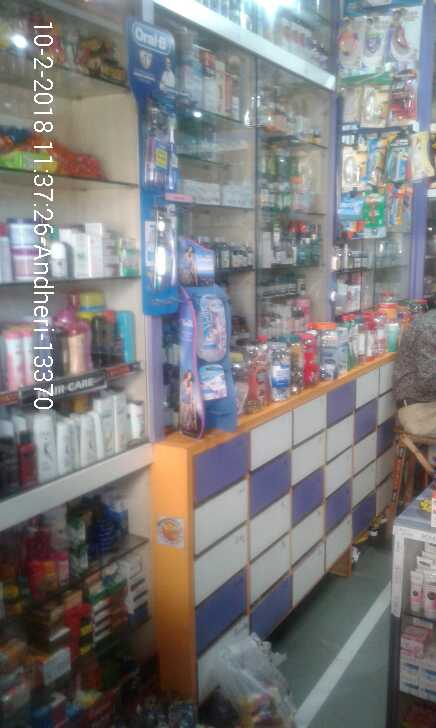beauty: (195, 297, 231, 360), (199, 366, 230, 401)
pharmacy: (162, 109, 179, 190), (161, 214, 173, 291)
